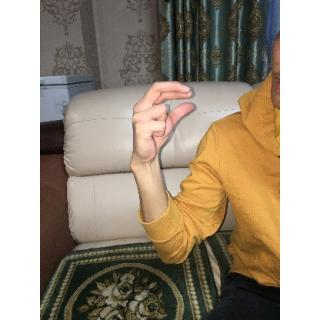DHELL: (124, 73, 200, 172)
